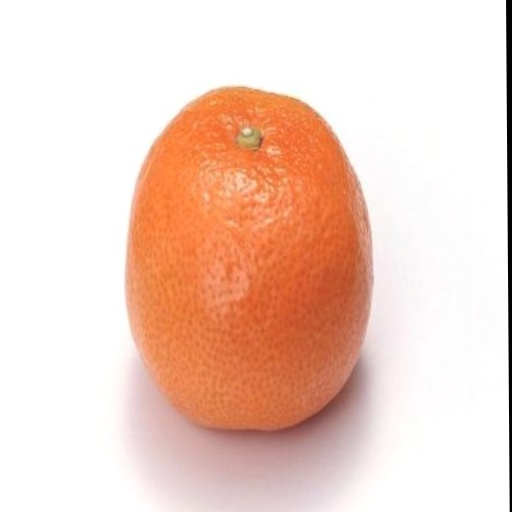fruit: (126, 88, 372, 430)
